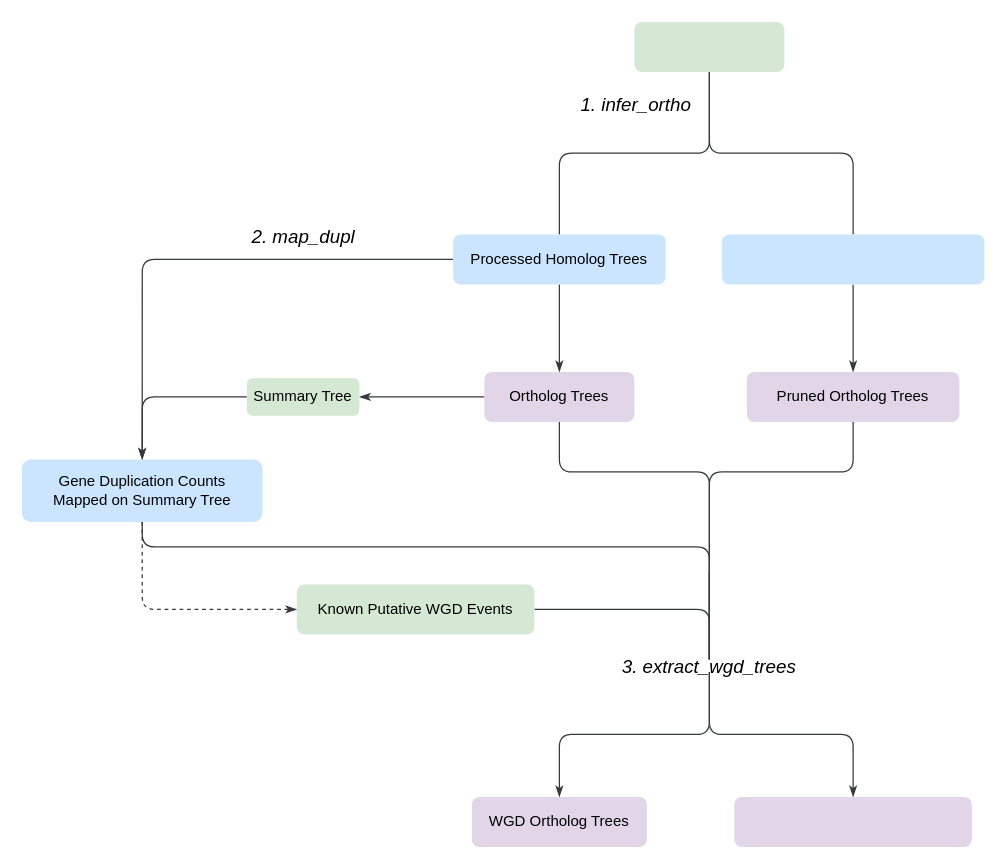
Image size: 1005x868. Some labels were removed from this diagram. The shapes that lost their labels are listed below. From the top down, each one's centre as x and y in pixels, then its label:
At pixel 709 46: "Homolog Trees".
At pixel 852 259: "Processed Pruned Homolog Trees".
At pixel 852 821: "WGD Pruned Ortholog Trees".
